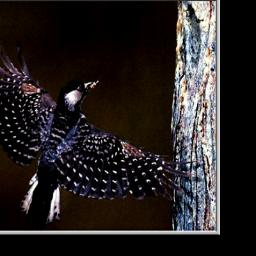Woodpecker: (0, 47, 196, 227)
